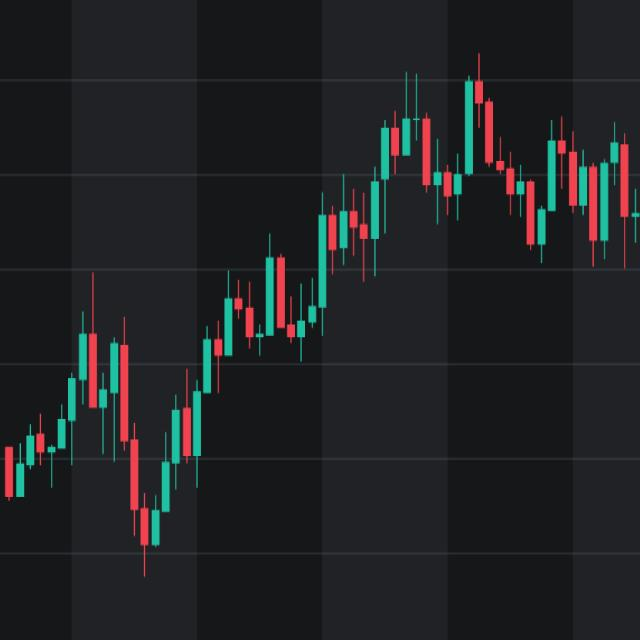Channel-up: (122, 36, 485, 580)
